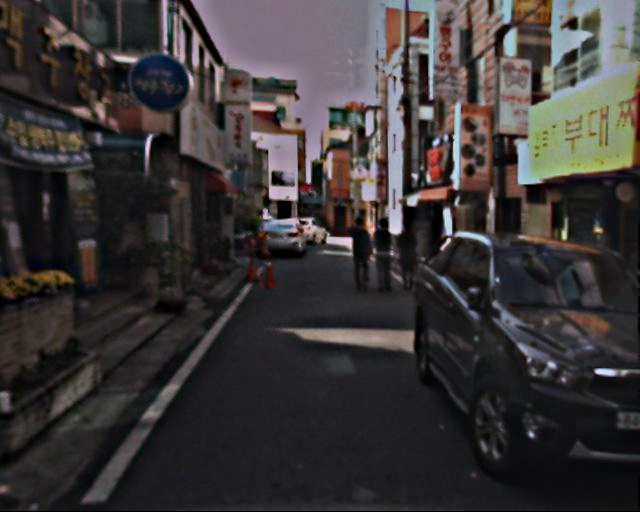person: (344, 218, 376, 296), (367, 219, 398, 294), (391, 216, 421, 290)
